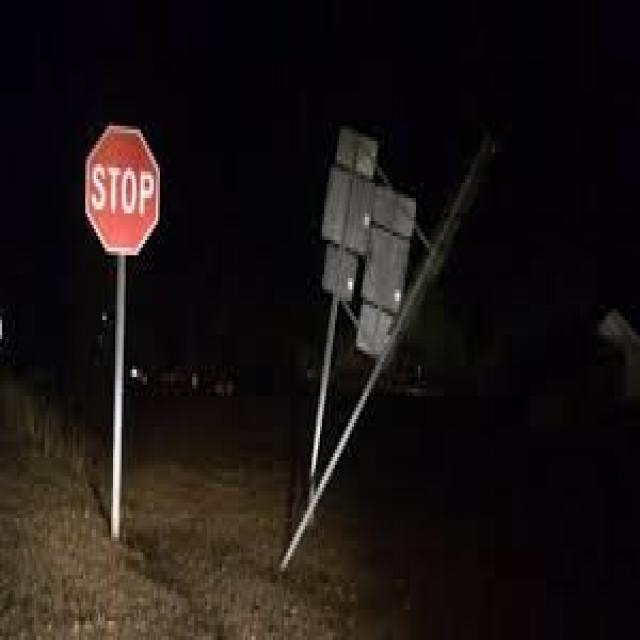stop-sign: (72, 130, 221, 289)
